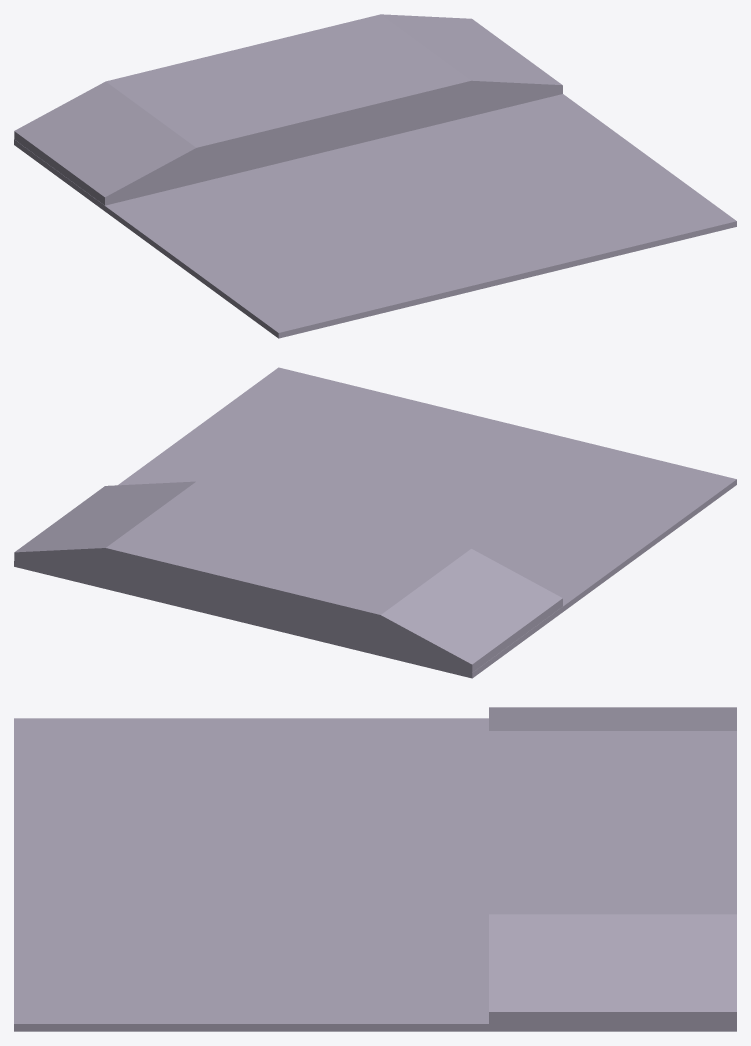
Rendered from trainPlatform.obj.
3 renders of one model, top to bottom at view 1: azimuth 30°, elevation 25°; view 2: azimuth 150°, elevation 25°; view 3: azimuth 270°, elevation 25°, orthographic. The views are drawn at different scales.
Visible parts, largest first — view 1: Cube_Cube.001; view 2: Cube_Cube.001; view 3: Cube_Cube.001.
Part boxes in pixels (left/top/right/bottom): Cube_Cube.001: left=14, top=14, right=736, bottom=338; Cube_Cube.001: left=14, top=367, right=736, bottom=678; Cube_Cube.001: left=14, top=707, right=736, bottom=1031.
Bounding box in the file's own units: 34.81 × 2.99 × 34.81.
